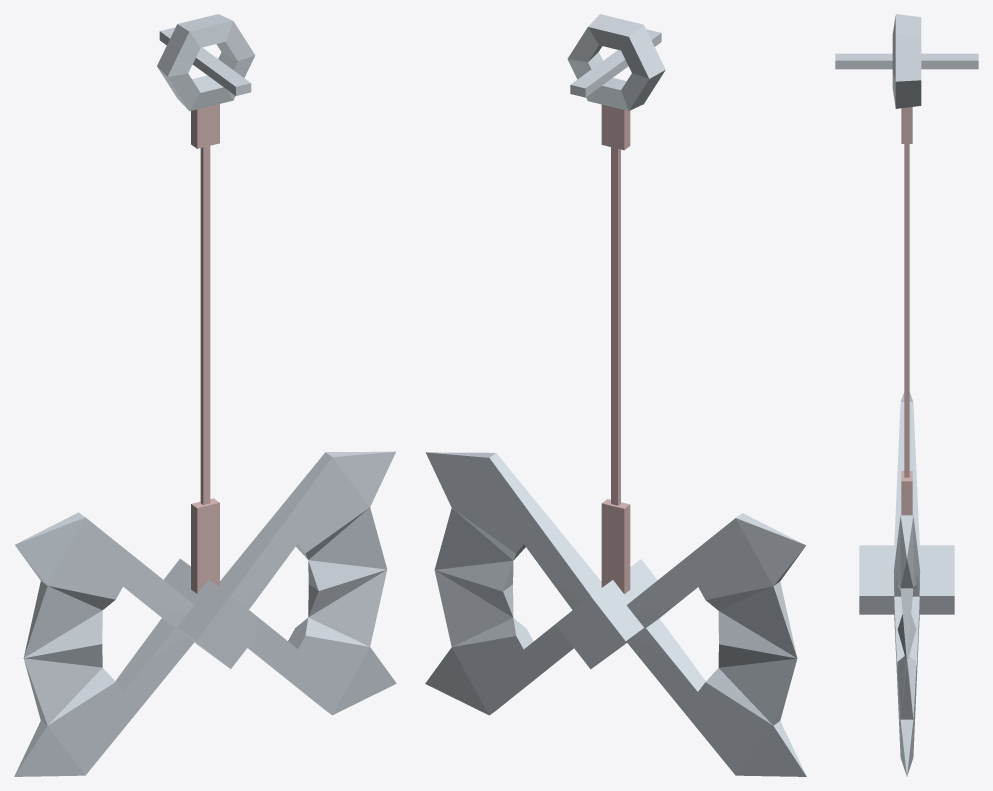
File: axe.dae
3 views of the same model, side by side, from view 1: azimuth 30°, elevation 25°; view 2: azimuth 150°, elevation 25°; view 3: azimuth 270°, elevation 25° (orthographic). The views are drawn at different scales.
Parts seen in each view (by area): view 1: Cylinder_005, Cylinder, Handle, Cylinder_002, Cylinder_006; view 2: Cylinder_005, Cylinder, Handle, Cylinder_002, Cylinder_006; view 3: Cylinder_005, Cylinder_002, Cylinder, Handle, Cylinder_006.
Part boxes in pixels (x1,y1,x2,y2): Cylinder_005: (14, 451, 396, 776); Cylinder: (191, 104, 219, 593); Handle: (157, 14, 255, 111); Cylinder_002: (164, 558, 265, 668); Cylinder_006: (159, 27, 251, 95); Cylinder_005: (425, 452, 806, 776); Cylinder: (601, 104, 630, 594); Handle: (567, 14, 665, 110); Cylinder_002: (555, 559, 657, 669); Cylinder_006: (570, 29, 661, 97); Cylinder_005: (893, 392, 920, 776); Cylinder_002: (859, 545, 954, 614); Cylinder: (901, 107, 912, 515); Handle: (892, 14, 921, 108); Cylinder_006: (835, 53, 978, 69).
Bounding box in the file's own units: 8.71 × 3 × 15.67.
